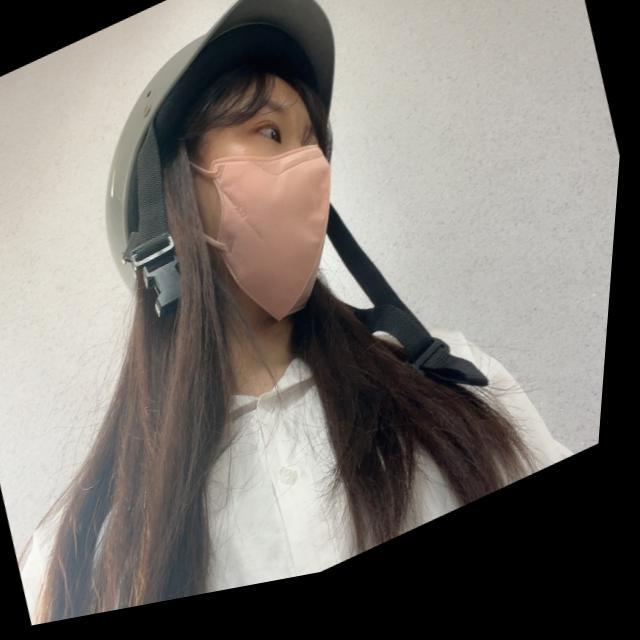Helmet: (93, 0, 353, 330)
